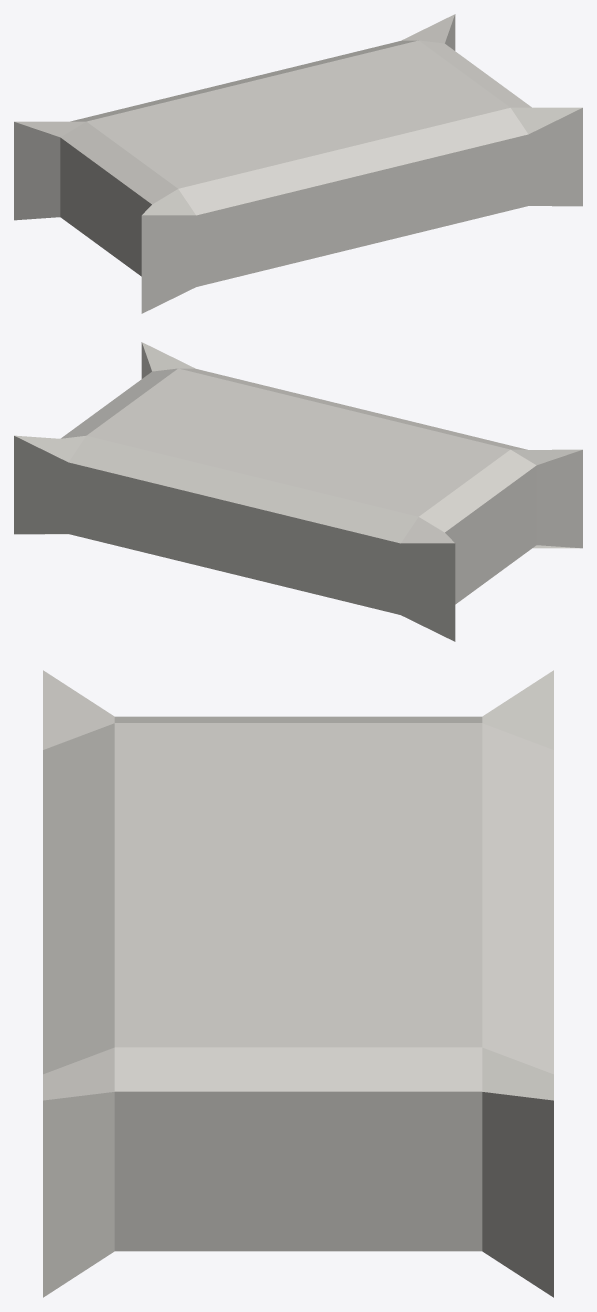
The model's file is delosReyes_pillow.glb.
3 renders of one model, top to bottom at view 1: azimuth 30°, elevation 25°; view 2: azimuth 150°, elevation 25°; view 3: azimuth 270°, elevation 25°, orthographic. The views are drawn at different scales.
Visible parts, largest first — view 1: pillow; view 2: pillow; view 3: pillow.
Part boxes in pixels (bbox=[...]): pillow: bbox=[14, 14, 582, 313]; pillow: bbox=[14, 342, 582, 641]; pillow: bbox=[43, 670, 553, 1297].
Bounding box in the file's own units: 11.36 × 2.43 × 5.7.
Materials: 1 (1 with a texture image).
